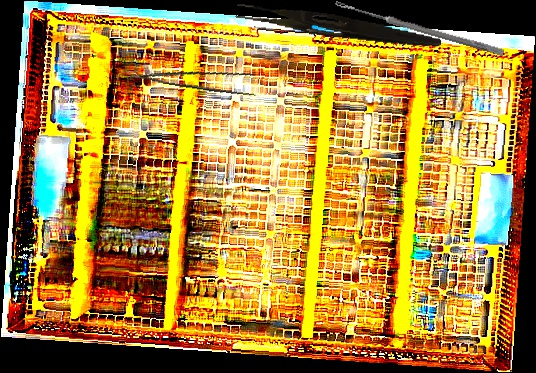Dressing Forceps: (234, 2, 443, 51)
Surgical Spoon: (334, 0, 505, 56)
Tissue Forceps: (129, 52, 262, 101)
